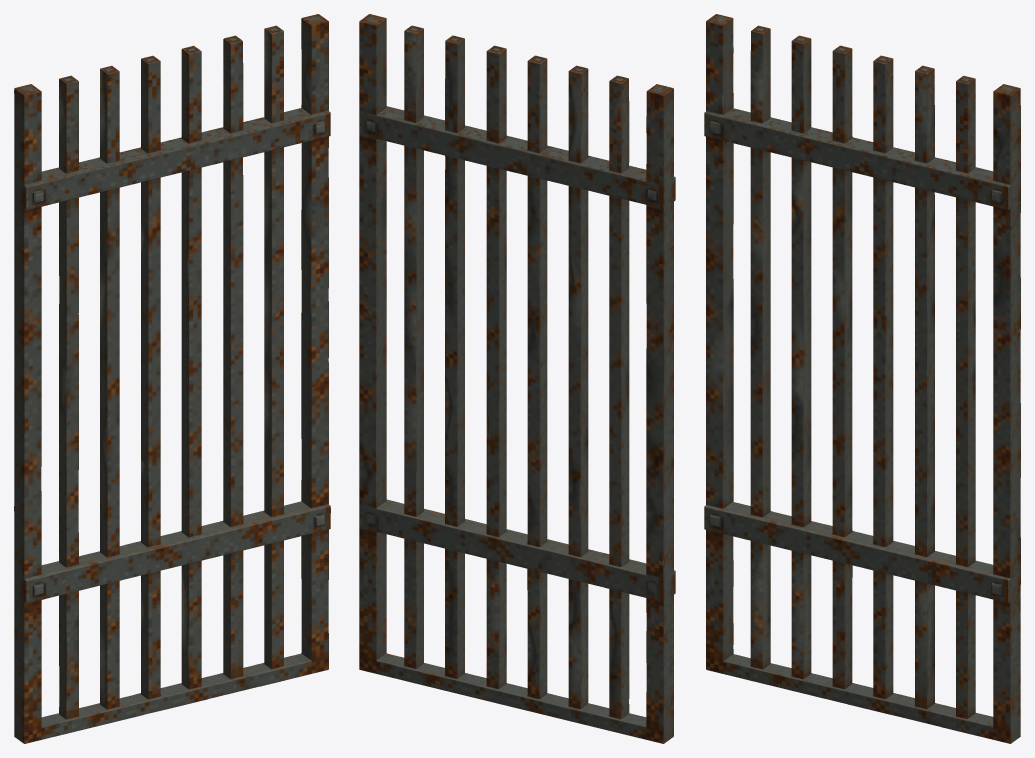
The model's file is Meshy_AI_model.glb.
The picture shows the model from 3 angles, left to right: view 1: azimuth 30°, elevation 25°; view 2: azimuth 150°, elevation 25°; view 3: azimuth 330°, elevation 25°; orthographic projection.
Bounding box in the file's own units: 0.9363 × 1.9 × 0.0728.
Materials: 1 (1 with a texture image).
